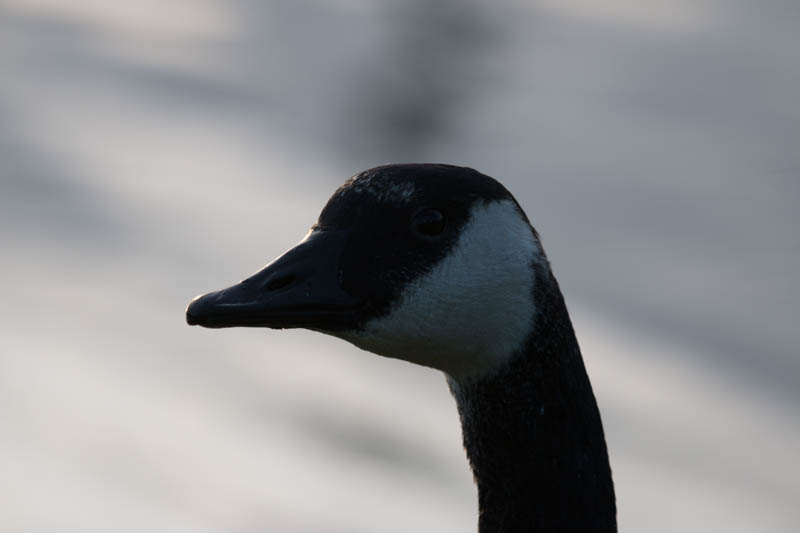goose-head: (185, 165, 569, 379)
